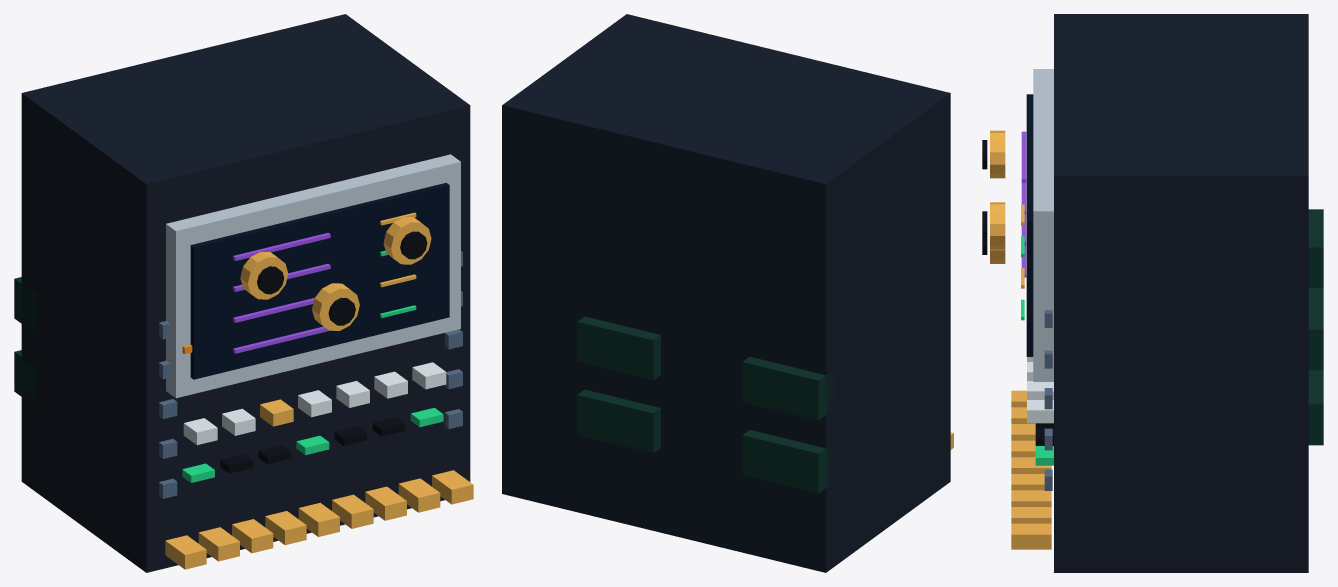
File: 42_L91_PhotonEventBufferC.fbx
3 renders of one model, left to right at view 1: azimuth 30°, elevation 25°; view 2: azimuth 150°, elevation 25°; view 3: azimuth 270°, elevation 25°, orthographic. The views are drawn at different scales.
Visible parts, largest first — view 1: L91_PhotonEventBufferC, L91_PhotonEventBufferC_Part_0012, L91_PhotonEventBufferC_Part_0016, L91_PhotonEventBufferC_Part_0014, L91_PhotonEventBufferC_Part_0017, L91_PhotonEventBufferC_Part_0015, L91_PhotonEventBufferC_Part_0013; view 2: L91_PhotonEventBufferC; view 3: L91_PhotonEventBufferC, L91_PhotonEventBufferC_Part_0012, L91_PhotonEventBufferC_Part_0016.
Boxes of the visible parts, x1,y1,x2,y2 form: L91_PhotonEventBufferC: [14, 14, 473, 572]; L91_PhotonEventBufferC_Part_0012: [240, 252, 288, 299]; L91_PhotonEventBufferC_Part_0016: [383, 217, 431, 264]; L91_PhotonEventBufferC_Part_0014: [312, 283, 359, 330]; L91_PhotonEventBufferC_Part_0017: [400, 231, 427, 259]; L91_PhotonEventBufferC_Part_0015: [328, 297, 355, 325]; L91_PhotonEventBufferC_Part_0013: [257, 266, 284, 294]; L91_PhotonEventBufferC: [502, 14, 953, 572]; L91_PhotonEventBufferC: [1011, 14, 1323, 572]; L91_PhotonEventBufferC_Part_0012: [990, 130, 1005, 178]; L91_PhotonEventBufferC_Part_0016: [990, 202, 1005, 249].
Bounding box in the file's own units: 104 × 119 × 92.96.
